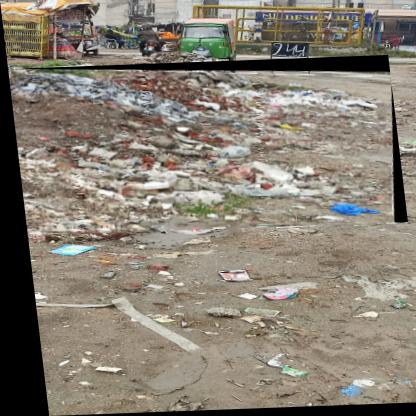Garbage: (7, 59, 404, 238)
